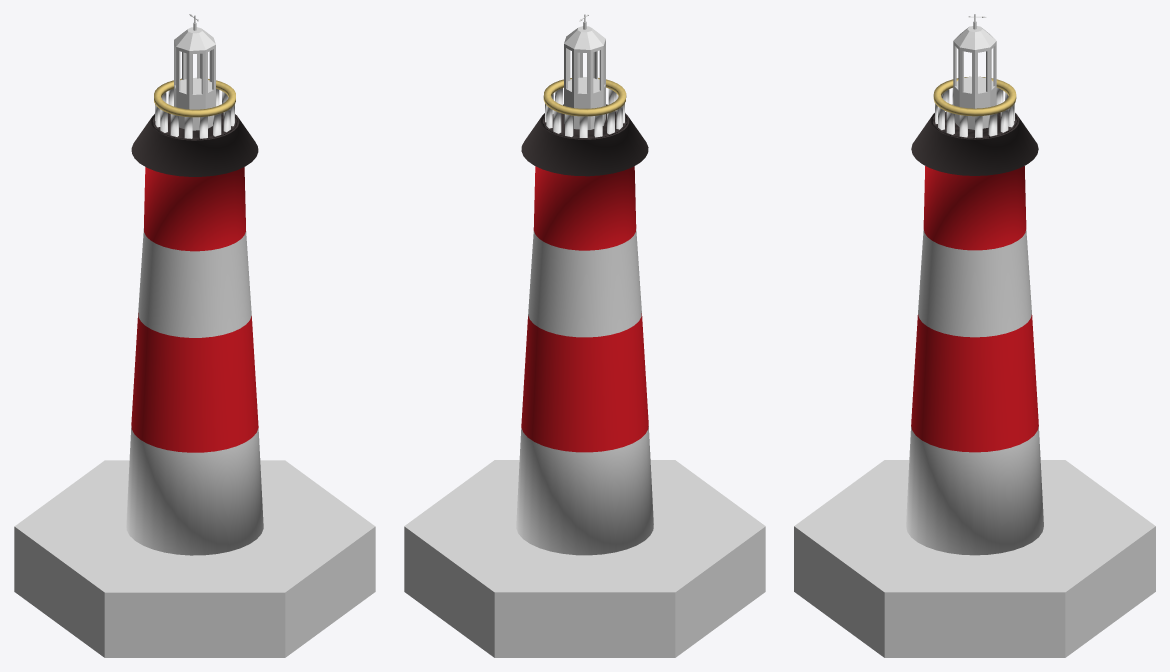
File: LightHouse.fbx
3 views of the same model, side by side, from view 1: azimuth 30°, elevation 25°; view 2: azimuth 150°, elevation 25°; view 3: azimuth 270°, elevation 25° (orthographic).
Visible parts, largest first — view 1: Cylinder.002; view 2: Cylinder.002; view 3: Cylinder.002.
Boxes of the visible parts, bbox=[...] form: Cylinder.002: bbox=[14, 14, 375, 657]; Cylinder.002: bbox=[404, 14, 765, 657]; Cylinder.002: bbox=[794, 14, 1155, 657].
Bounding box in the file's own units: 173 × 352 × 200.
